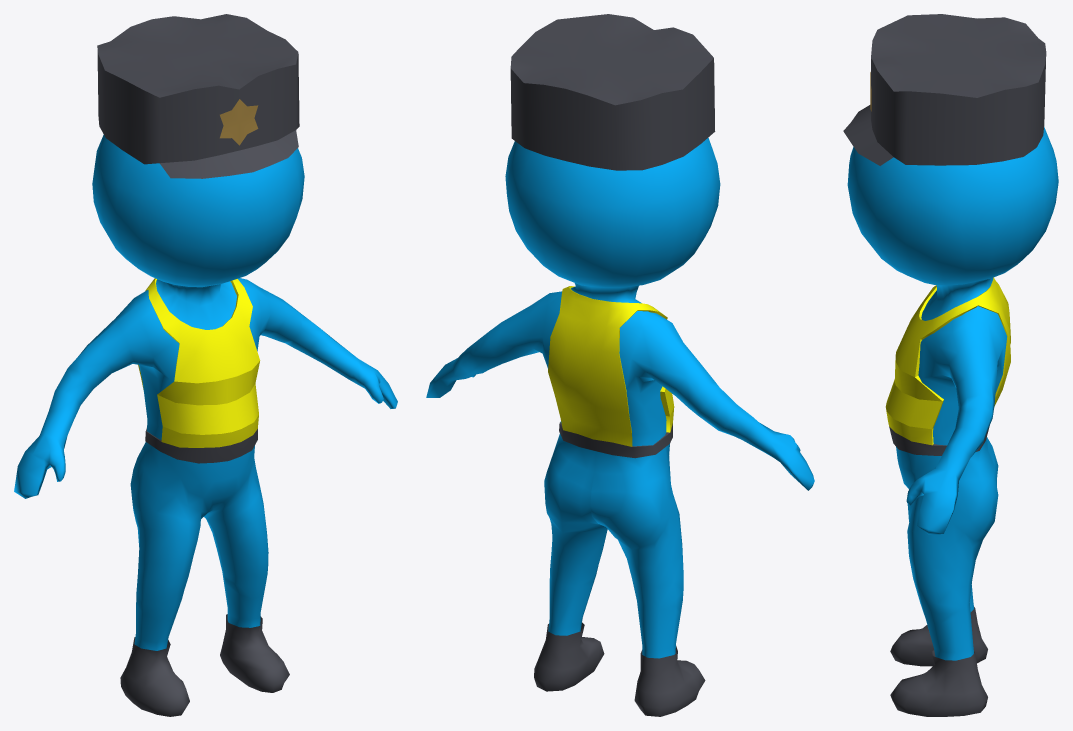
Rendered from Human_2.fbx.
3 renders of one model, left to right at view 1: azimuth 30°, elevation 25°; view 2: azimuth 150°, elevation 25°; view 3: azimuth 270°, elevation 25°, orthographic.
Parts seen in each view (by area): view 1: pCylinder2; view 2: pCylinder2; view 3: pCylinder2.
Boxes of the visible parts, <box> form: pCylinder2: <box>14,14,397,716</box>; pCylinder2: <box>426,14,814,716</box>; pCylinder2: <box>843,14,1058,716</box>.
Size of the model in its own units: 1.23 by 1.96 by 0.6055.
